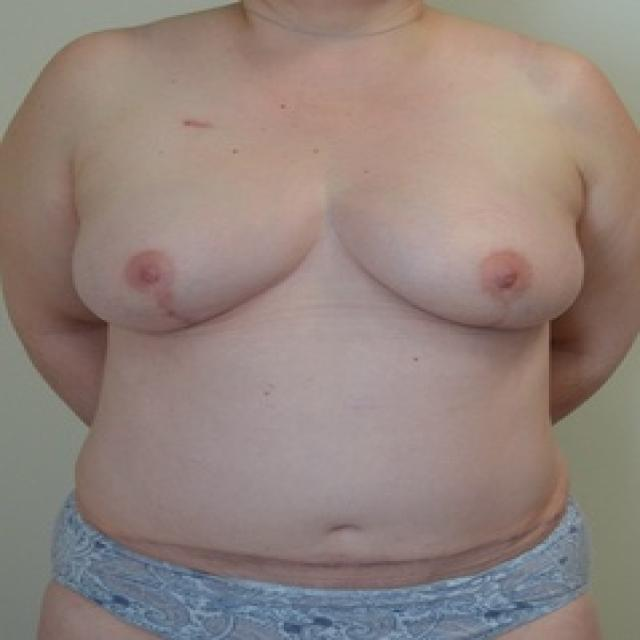Seno herido: (329, 134, 595, 348), (62, 134, 324, 348)
